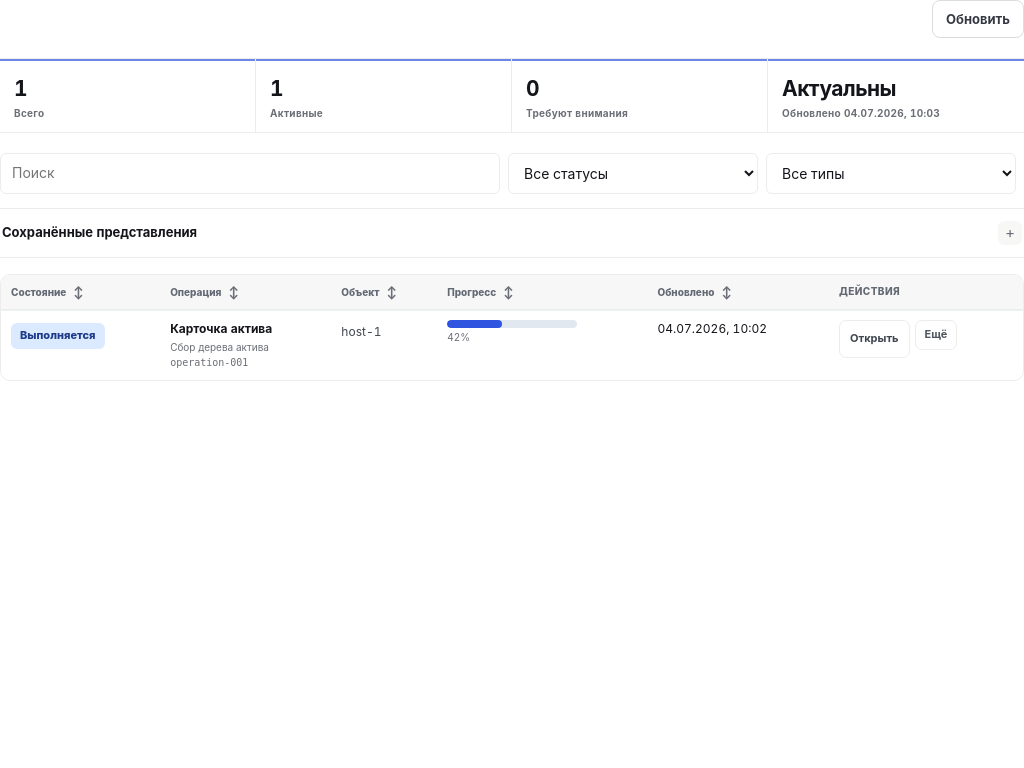
Test: OperationsPage critical states › opens the operation drawer and closes it with the close button
Click the button "Открыть": click(874, 339) [839,320,910,358]
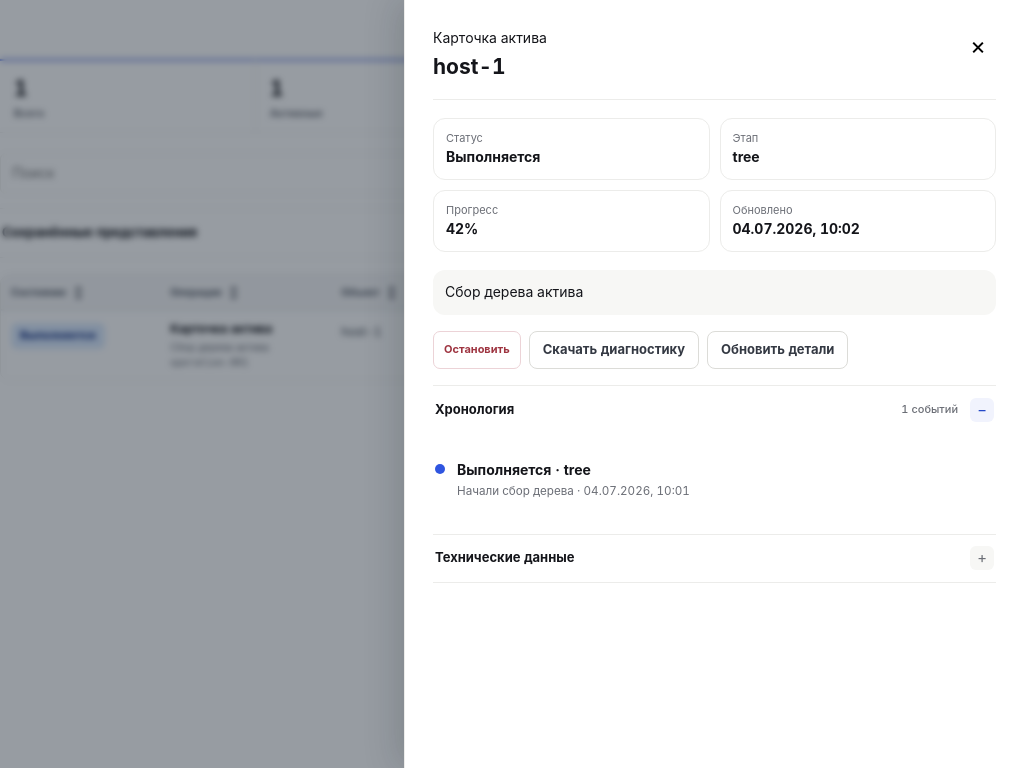
Expected: the dialog is shown
Expected: the text "Сбор дерева актива" is shown, [433,270,996,314]
Expected: the text "42%" is shown, [446,220,478,237]
Click the button named "Закрыть": click(978, 46) [960,28,996,64]
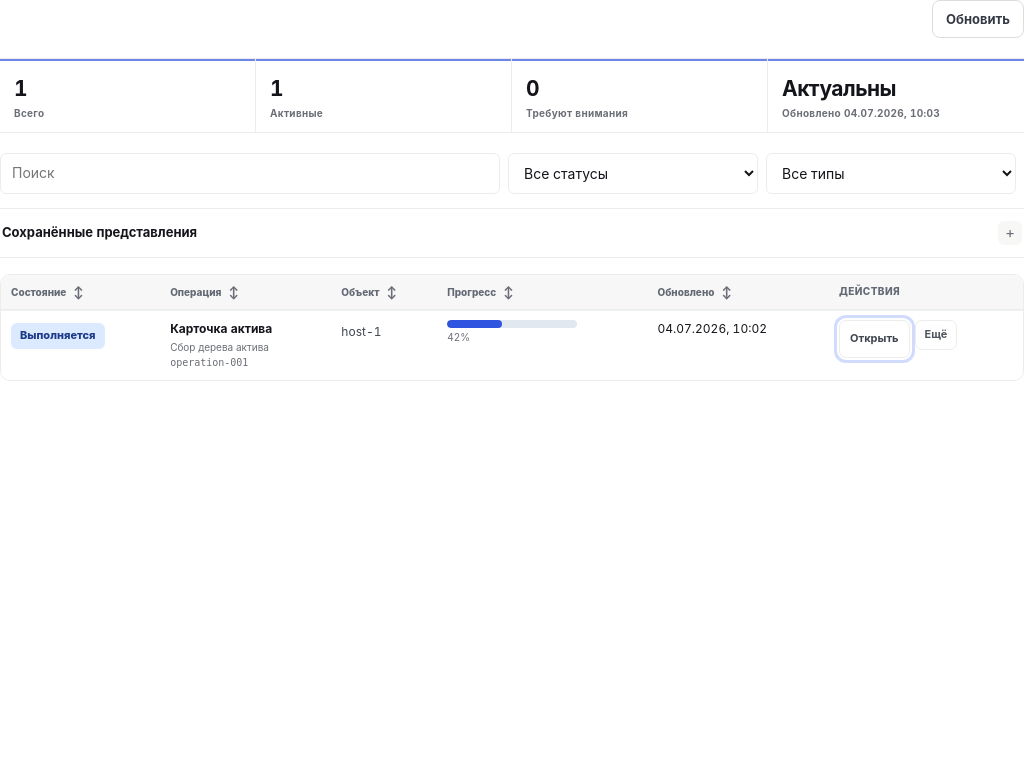
Expected: the dialog is gone
